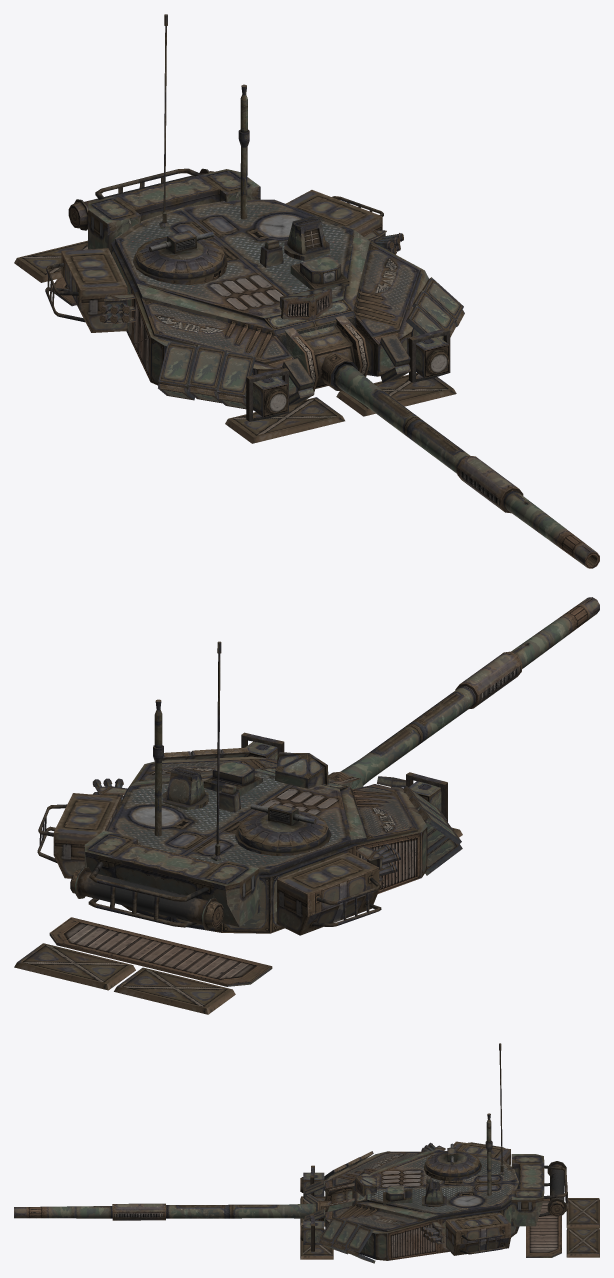
Rendered from battle_turret.fbx.
The picture shows the model from 3 angles, top to bottom: view 1: azimuth 30°, elevation 25°; view 2: azimuth 150°, elevation 25°; view 3: azimuth 270°, elevation 25°; orthographic projection. The views are drawn at different scales.
Parts seen in each view (by area): view 1: Final_scene3:battle_lowpoly:polySurface10281, polySurface12951_DUP, polySurface12949_DUP, polySurface12950_DUP; view 2: Final_scene3:battle_lowpoly:polySurface10281, polySurface12951_DUP, polySurface12950_DUP, polySurface12949_DUP; view 3: Final_scene3:battle_lowpoly:polySurface10281, polySurface12951_DUP, polySurface12949_DUP, polySurface12950_DUP.
Boxes of the visible parts, box(x1,y1,x2,y2) form: Final_scene3:battle_lowpoly:polySurface10281: box(45, 14, 464, 421); polySurface12951_DUP: box(14, 240, 456, 443); polySurface12949_DUP: box(321, 352, 469, 473); polySurface12950_DUP: box(457, 455, 599, 568); Final_scene3:battle_lowpoly:polySurface10281: box(37, 641, 462, 935); polySurface12951_DUP: box(14, 827, 462, 1014); polySurface12950_DUP: box(455, 597, 599, 708); polySurface12949_DUP: box(328, 686, 475, 785); Final_scene3:battle_lowpoly:polySurface10281: box(300, 1043, 568, 1263); polySurface12951_DUP: box(300, 1196, 599, 1259); polySurface12949_DUP: box(166, 1200, 331, 1221); polySurface12950_DUP: box(14, 1203, 165, 1220).
Bounding box in the file's own units: 169 × 143 × 428.
